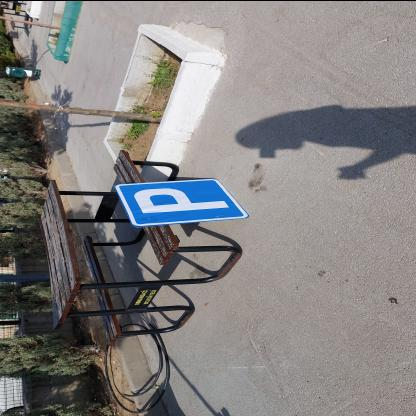Parking-Sign: (114, 177, 253, 228)
